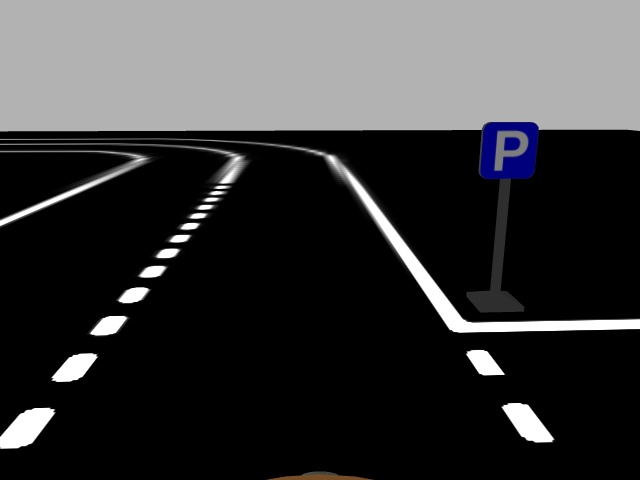parking: (478, 120, 539, 178)
